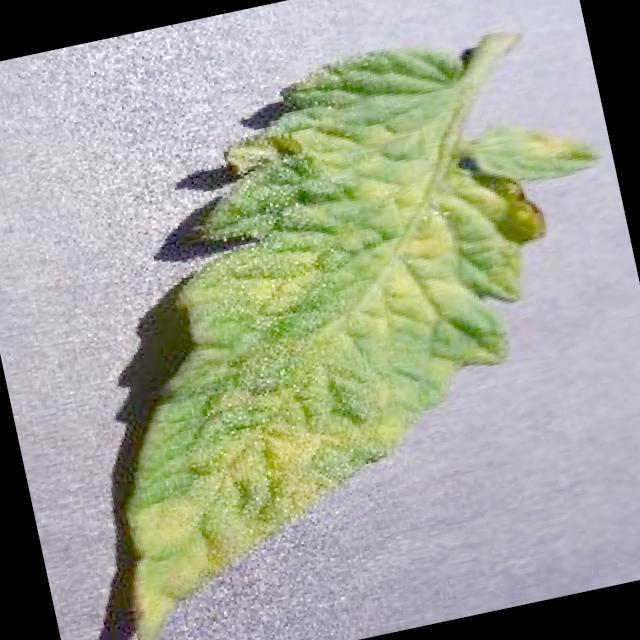Tomato mold leaf: (24, 9, 640, 640)
